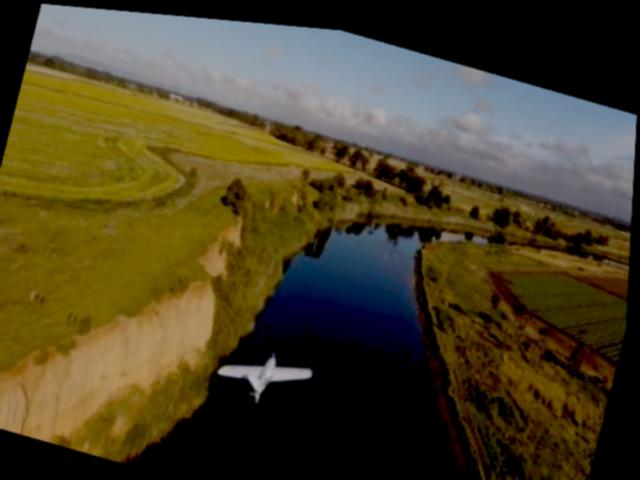uav: (216, 337, 318, 411)
